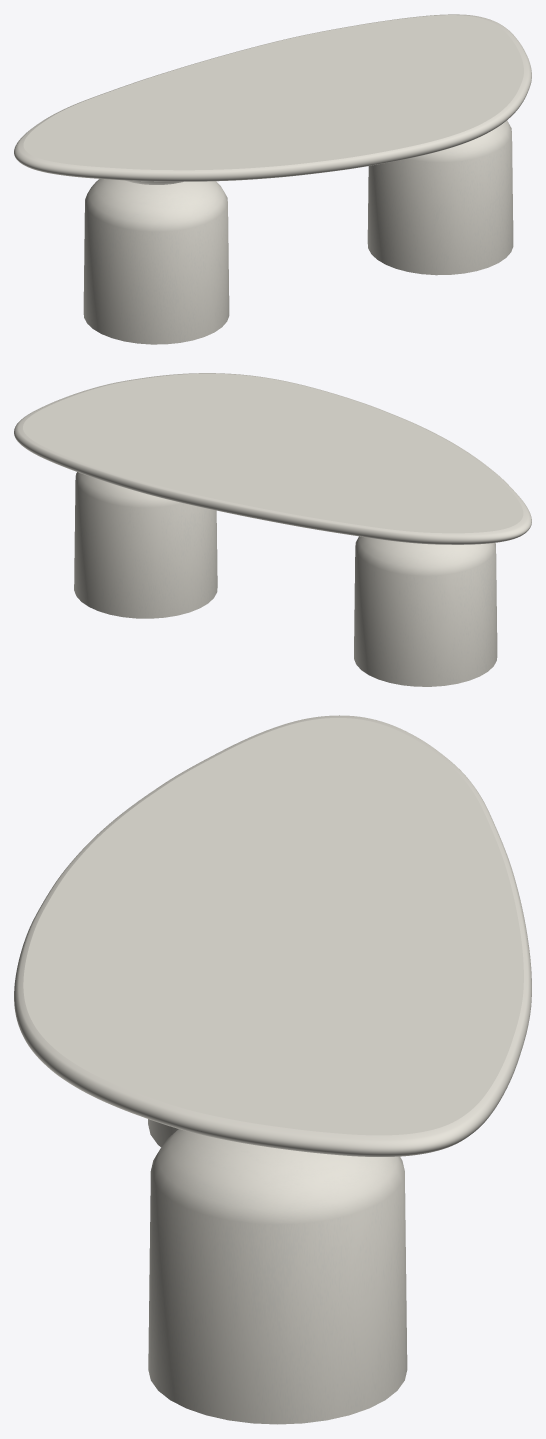
Rendered from pale_pebbletop_round_tornado.glb.
The picture shows the model from 3 angles, top to bottom: view 1: azimuth 30°, elevation 25°; view 2: azimuth 150°, elevation 25°; view 3: azimuth 270°, elevation 25°; orthographic projection. The views are drawn at different scales.
Parts seen in each view (by area): view 1: round_pebbletop, tornado; view 2: round_pebbletop, tornado; view 3: round_pebbletop, tornado.
Part boxes in pixels (left/top/right/bottom): round_pebbletop: left=14, top=14, right=531, bottom=181; tornado: left=83, top=120, right=513, bottom=344; round_pebbletop: left=14, top=373, right=531, bottom=544; tornado: left=74, top=472, right=497, bottom=686; round_pebbletop: left=14, top=715, right=531, bottom=1156; tornado: left=148, top=1119, right=407, bottom=1424.
Size of the model in its own units: 7.5 by 2.51 by 3.8.
1 material, 1 textured.
